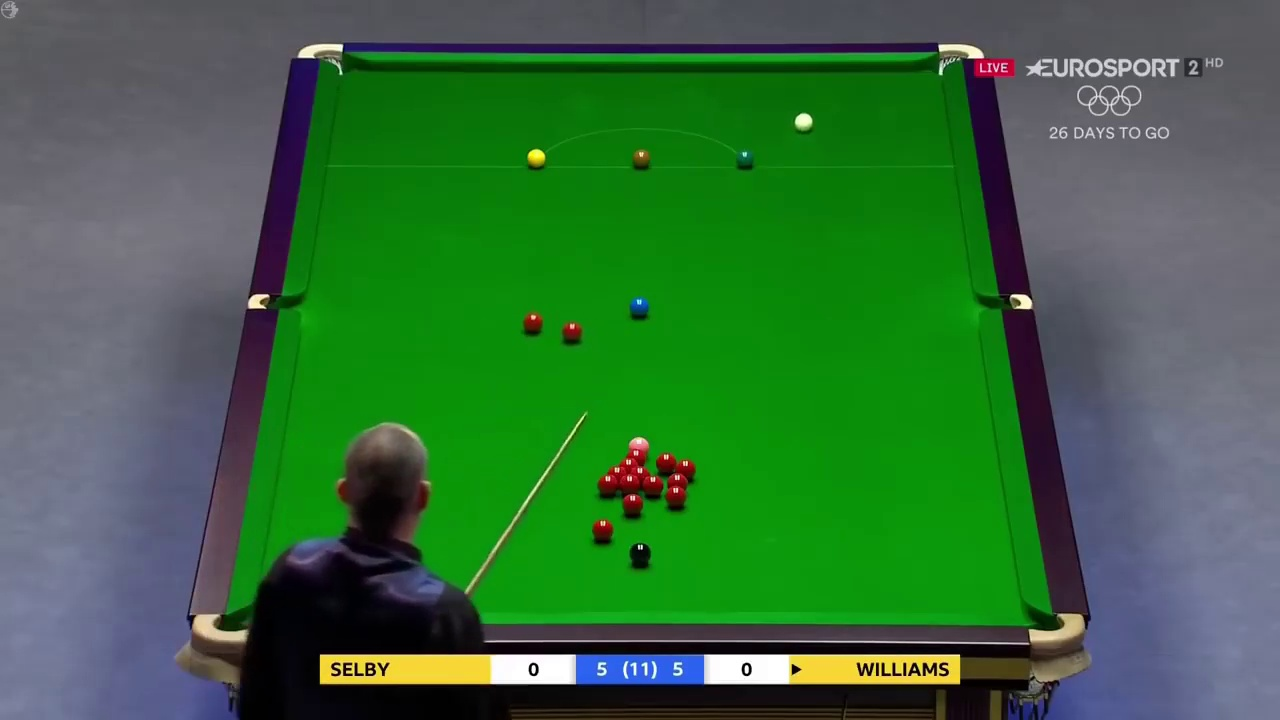ball: (663, 487, 686, 509), (559, 321, 581, 343), (620, 492, 644, 512), (523, 146, 545, 167), (591, 519, 613, 540), (519, 312, 542, 332), (732, 149, 753, 168), (630, 544, 651, 563), (792, 114, 814, 132), (630, 298, 651, 316), (630, 151, 648, 169)
